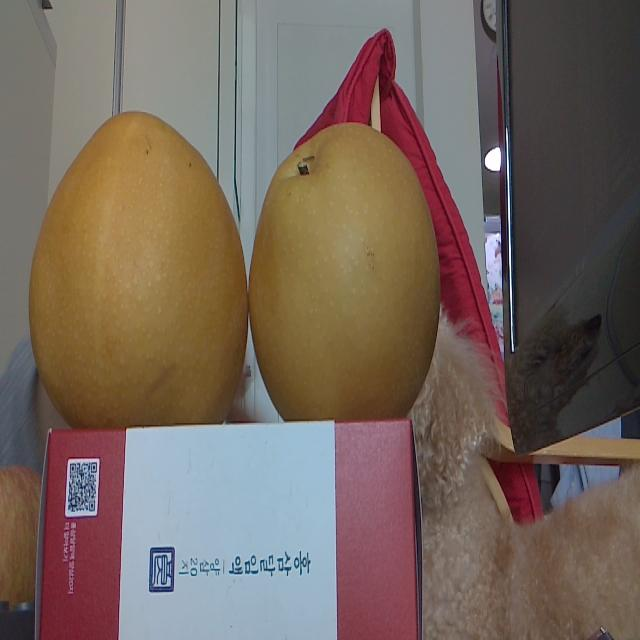pear: (28, 111, 247, 424), (247, 122, 441, 420)
